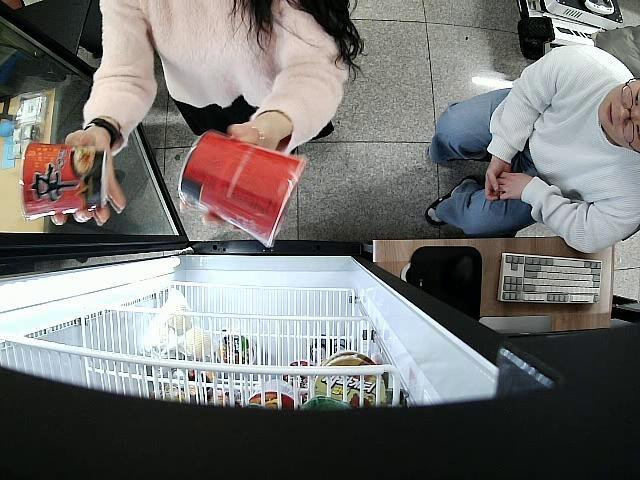02_shinRamen_S: (178, 130, 304, 246), (18, 141, 108, 215)
